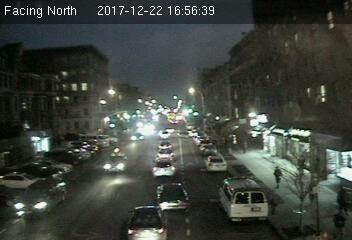car: (11, 178, 72, 217), (124, 203, 172, 239), (155, 182, 190, 212), (103, 147, 127, 174), (151, 160, 177, 177), (206, 155, 226, 171), (155, 148, 174, 160), (129, 131, 144, 142)
pedestrian: (271, 164, 283, 190)
police: (216, 174, 269, 223)
